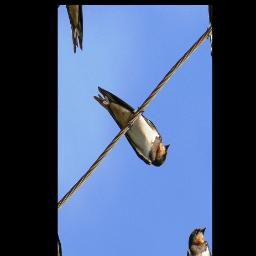Swallow: (92, 50, 174, 196)
